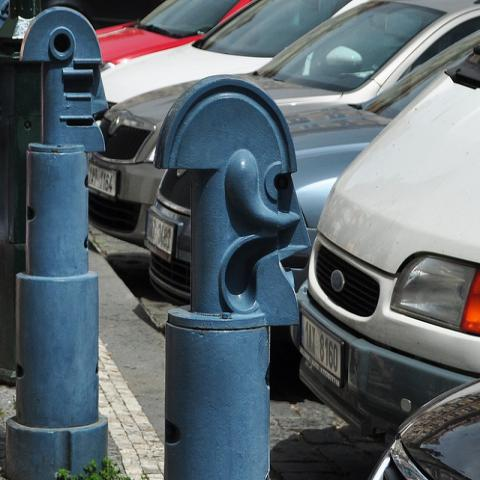car: (147, 26, 479, 301), (98, 0, 478, 227), (298, 38, 479, 438), (95, 1, 357, 132), (94, 0, 252, 63), (374, 382, 480, 475)
